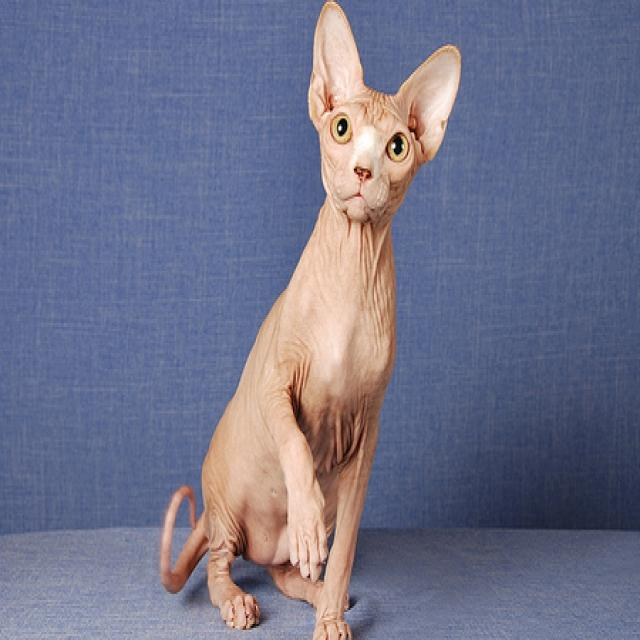Sphynx: (155, 0, 465, 640)
